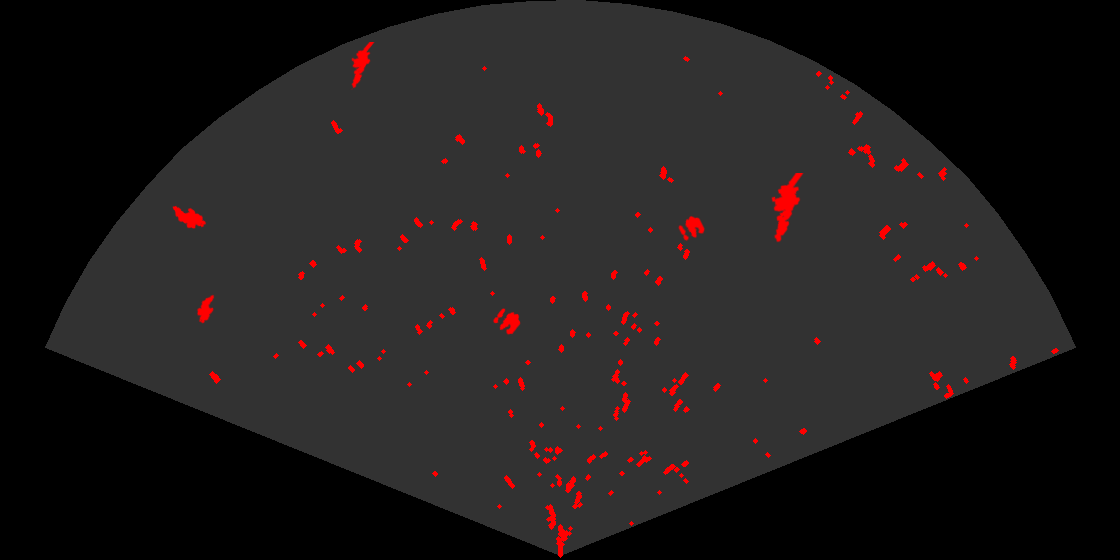AUV: (171, 204, 208, 230), (195, 293, 216, 325)
ball: (492, 307, 522, 336), (677, 214, 706, 243)
frogman: (770, 173, 805, 244), (349, 42, 376, 90)
